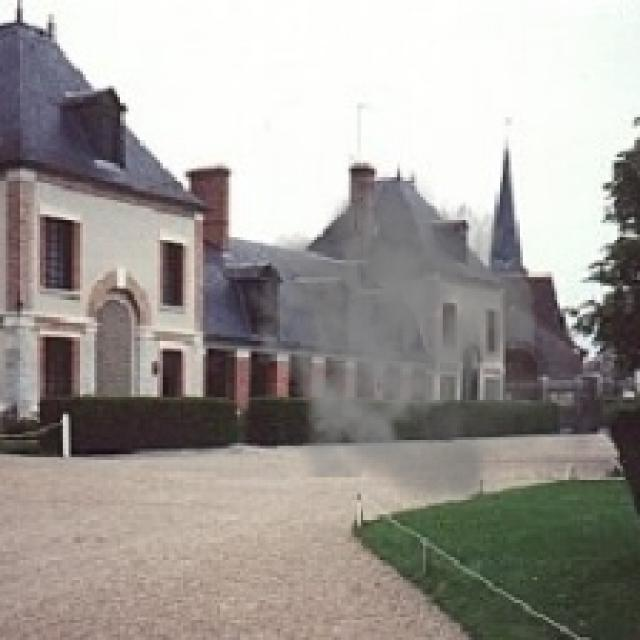smoke: (246, 166, 637, 523)
